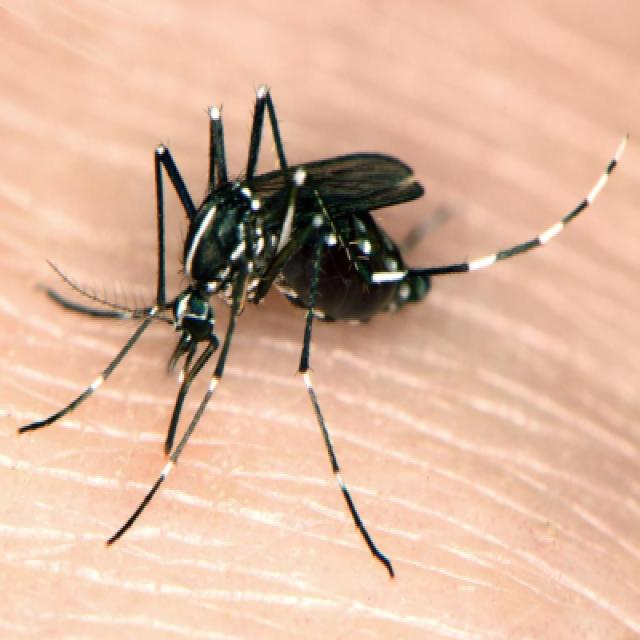antennae: (41, 236, 180, 332)
body: (175, 153, 426, 341)
insect: (19, 85, 624, 578)
legs: (20, 132, 180, 442), (304, 125, 628, 278), (288, 227, 398, 578), (94, 346, 235, 548), (129, 86, 291, 211)
wings: (242, 155, 428, 221)
